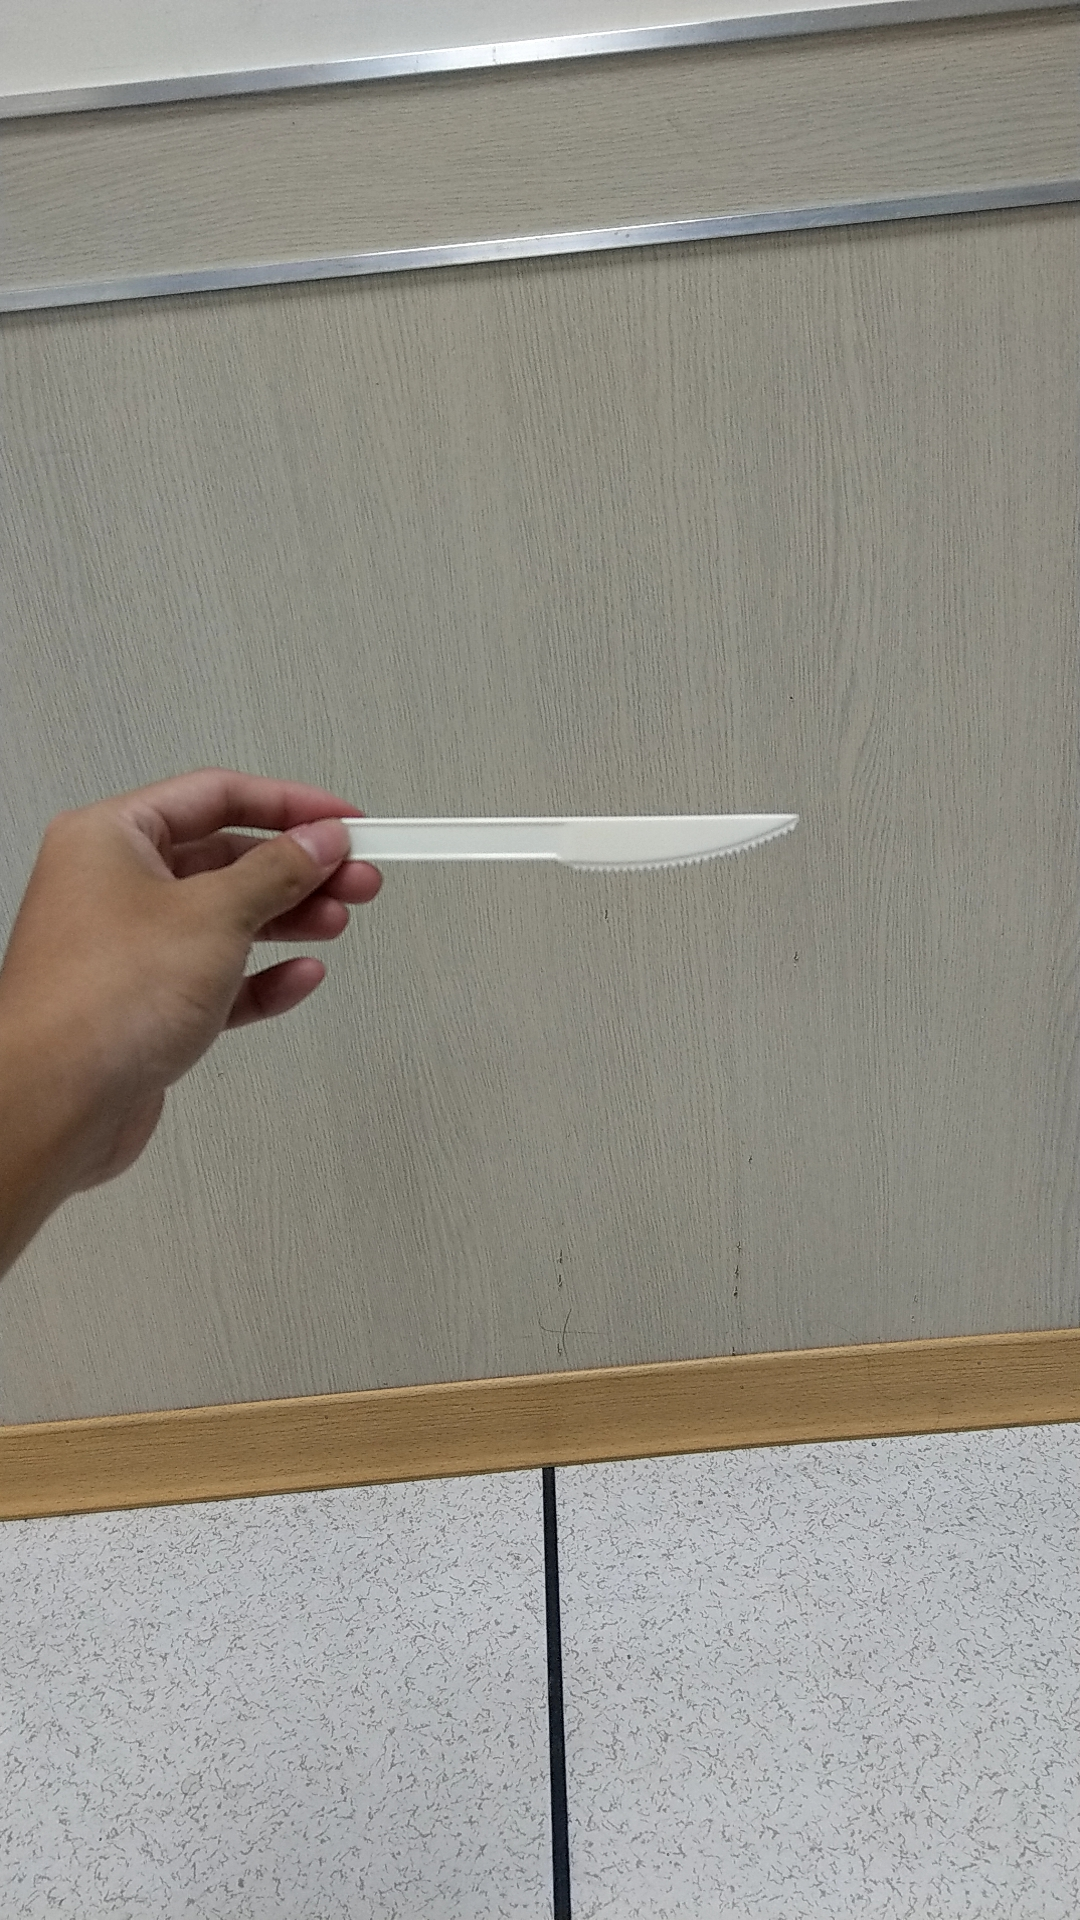knife: (353, 796, 822, 886)
